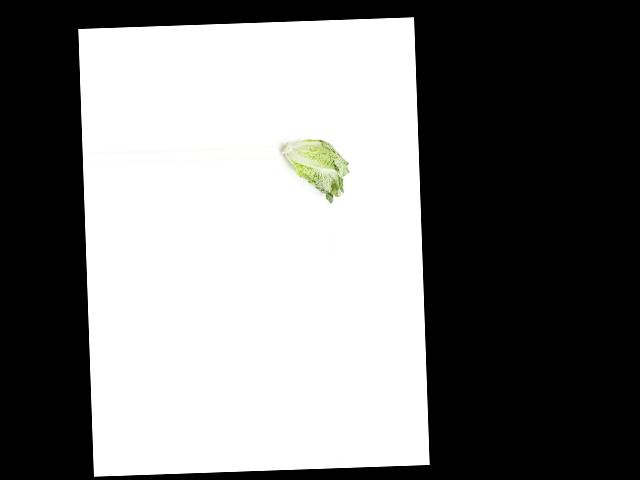lettuce: (282, 135, 353, 204)
